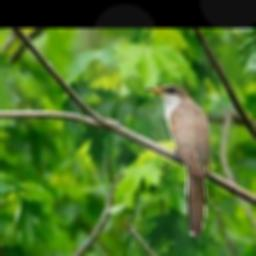Cuckoo: (145, 84, 211, 236)
